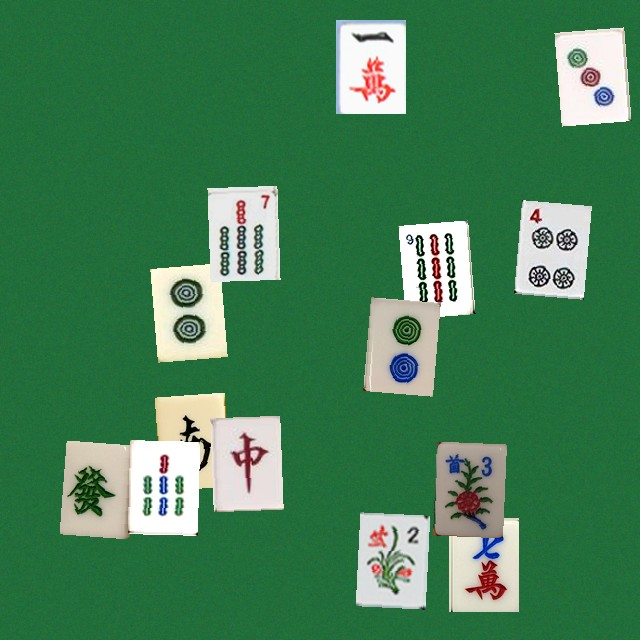tile: (398, 220, 468, 314), (363, 297, 433, 391), (150, 263, 220, 357), (335, 19, 405, 113), (59, 440, 129, 534), (355, 512, 425, 606), (207, 185, 277, 279), (514, 200, 584, 294), (154, 392, 224, 486), (127, 440, 197, 534), (448, 517, 518, 611), (210, 415, 280, 509), (554, 27, 624, 121), (433, 441, 503, 535)
